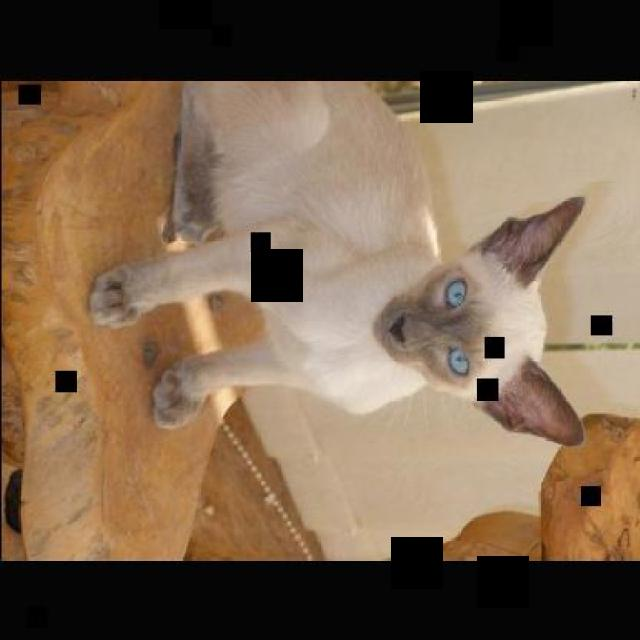unauthorized: (86, 79, 588, 448)
